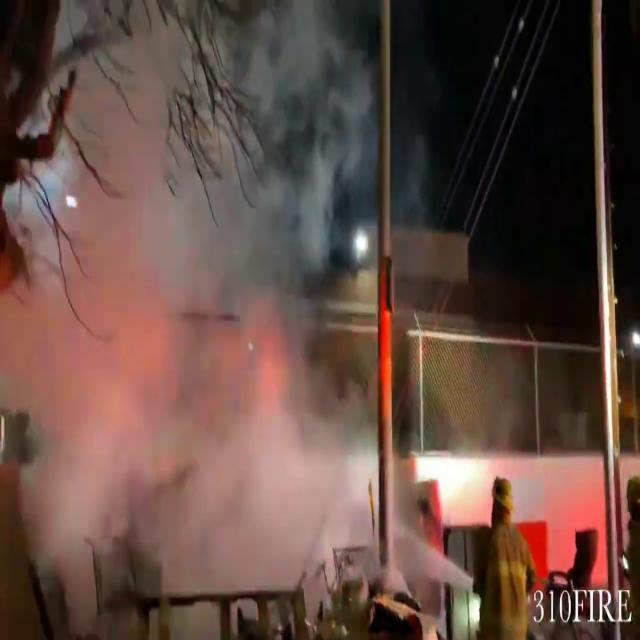Smoke: (0, 0, 372, 624)
